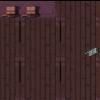Obstacle: (0, 0, 22, 23), (21, 0, 42, 23)
Win: (83, 40, 100, 58)
